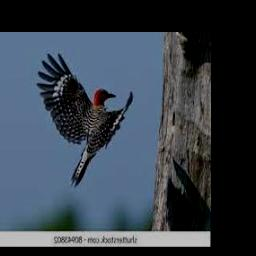Woodpecker: (36, 53, 133, 187)
